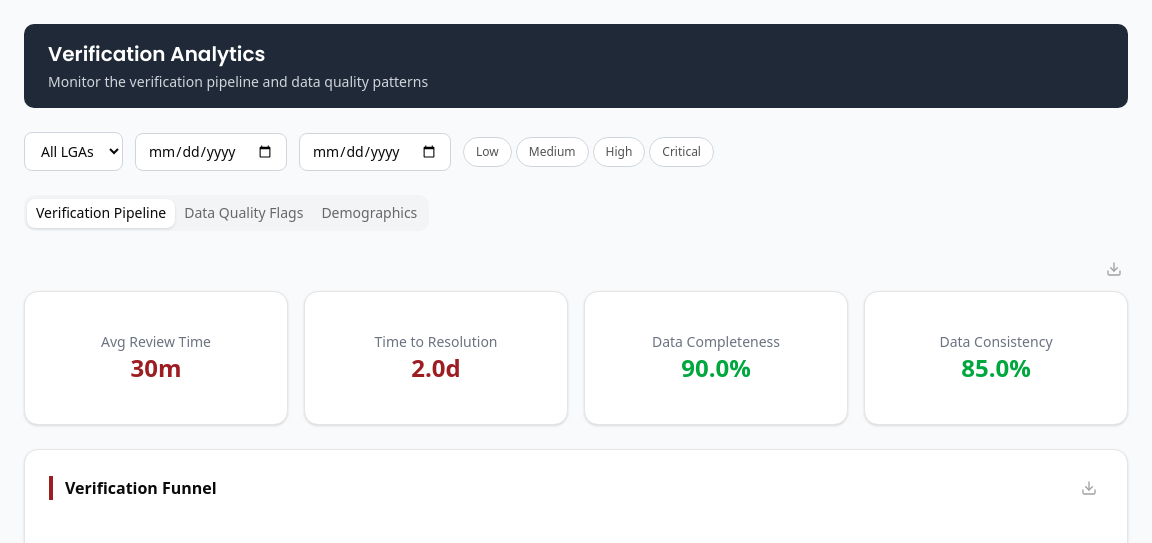
Scenario: AssessorAnalyticsPage › switches to Data Quality Flags tab
Press the mouse on the tab "Data Quality Flags" at coordinates (244, 213), box [175,198,312,228]
Click the tab "Data Quality Flags". click: coordinates (244, 213)
box: [175,198,312,228]
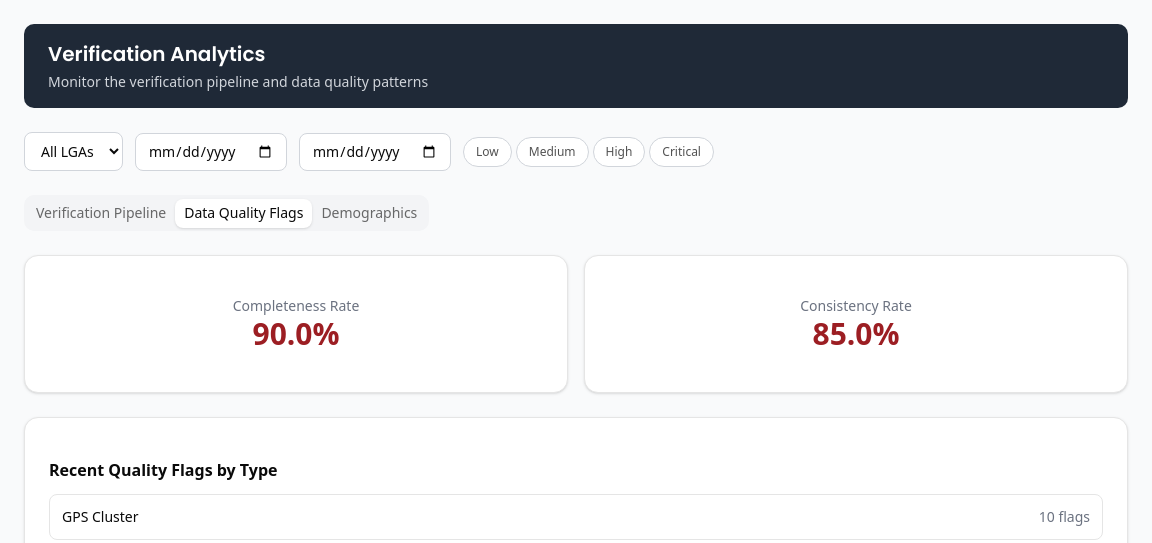
Check: the text "Completeness Rate" is shown, box [233,296,359,315]
Check: the text "Consistency Rate" is shown, box [800,296,912,315]
